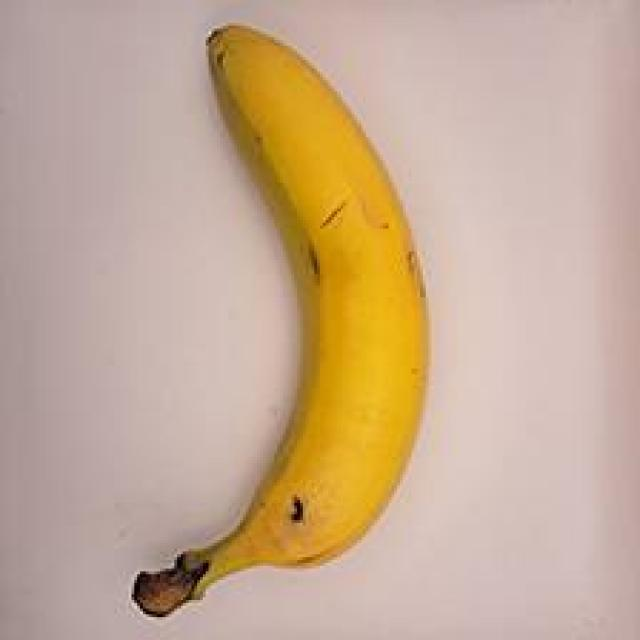Ripe: (96, 9, 462, 624)
